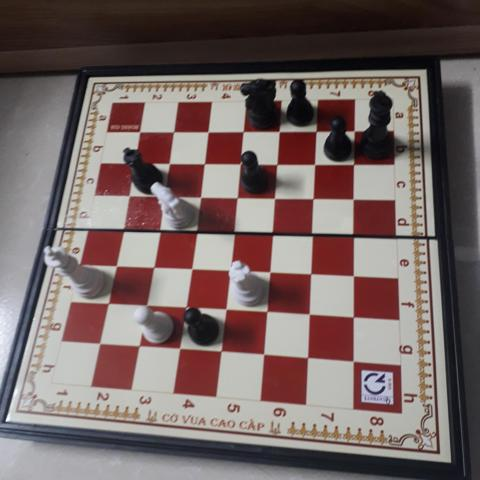xcorner: (348, 124, 363, 139), (201, 125, 216, 140), (233, 157, 248, 172), (268, 191, 283, 206), (156, 189, 171, 204), (265, 227, 280, 242), (226, 226, 241, 241), (188, 225, 203, 240), (114, 223, 129, 238), (304, 267, 319, 282), (183, 262, 198, 277), (302, 308, 317, 323), (138, 299, 153, 314), (100, 297, 115, 312), (310, 125, 325, 139), (273, 125, 288, 139), (237, 125, 251, 140), (348, 158, 363, 172), (309, 157, 323, 172), (271, 157, 285, 172), (197, 157, 212, 171), (127, 157, 142, 171), (307, 192, 322, 206), (193, 190, 207, 205), (347, 230, 362, 244), (306, 228, 320, 243), (151, 224, 165, 239), (263, 265, 277, 280), (222, 264, 237, 278), (108, 259, 122, 274), (346, 311, 361, 325), (218, 304, 233, 318), (178, 301, 192, 316), (300, 352, 315, 366), (256, 349, 271, 363), (172, 343, 187, 357), (132, 340, 146, 355), (93, 337, 107, 352), (167, 126, 181, 140), (133, 126, 147, 140), (162, 157, 176, 171), (348, 193, 362, 207), (230, 191, 244, 205), (121, 189, 135, 203), (347, 269, 361, 283), (145, 261, 159, 275), (260, 306, 274, 320), (346, 355, 360, 369), (214, 346, 228, 360)
